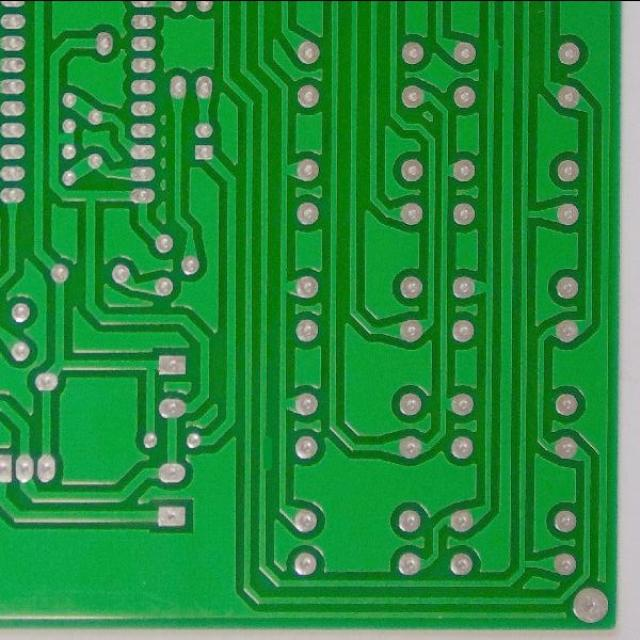spur: (255, 428, 276, 480), (483, 35, 505, 73)
